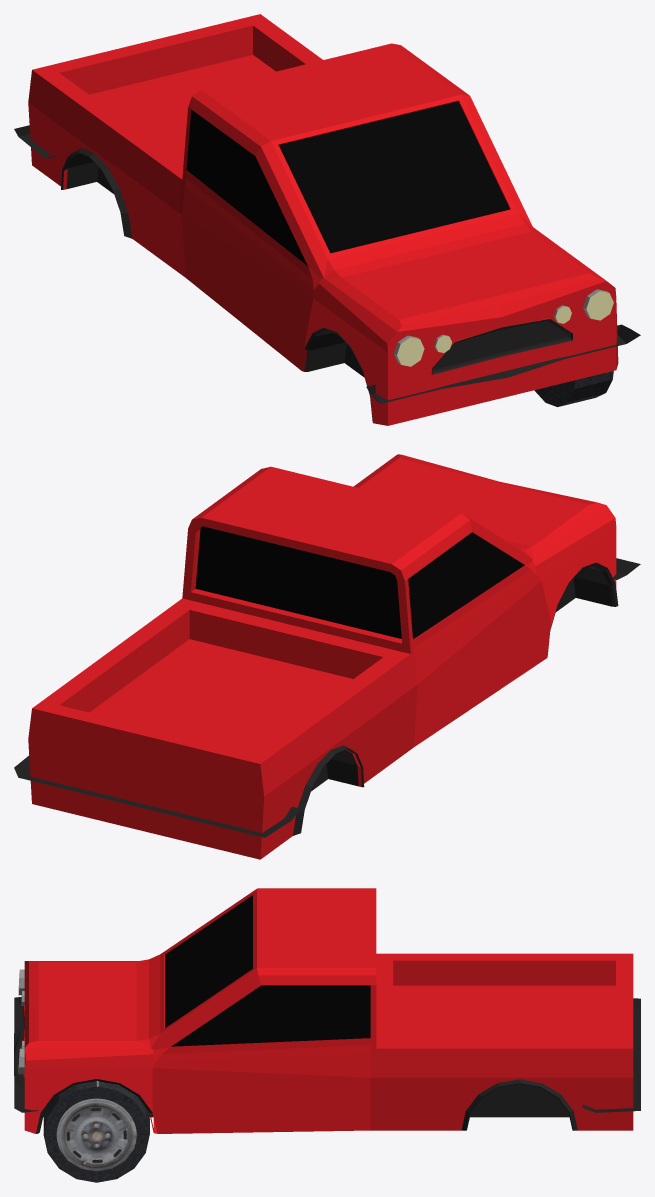
Rendered from rc_pickup.fbx.
3 renders of one model, top to bottom at view 1: azimuth 30°, elevation 25°; view 2: azimuth 150°, elevation 25°; view 3: azimuth 270°, elevation 25°, orthographic. The views are drawn at different scales.
Visible parts, largest first — view 1: Car, Wheel; view 2: Car; view 3: Car, Wheel.
Boxes of the visible parts, x1,y1,x2,y2 form: Car: (14, 14, 640, 425); Wheel: (534, 371, 613, 406); Car: (14, 454, 640, 859); Car: (14, 888, 640, 1133); Wheel: (43, 1081, 149, 1182).
Bounding box in the file's own units: 460 × 393 × 1103.
